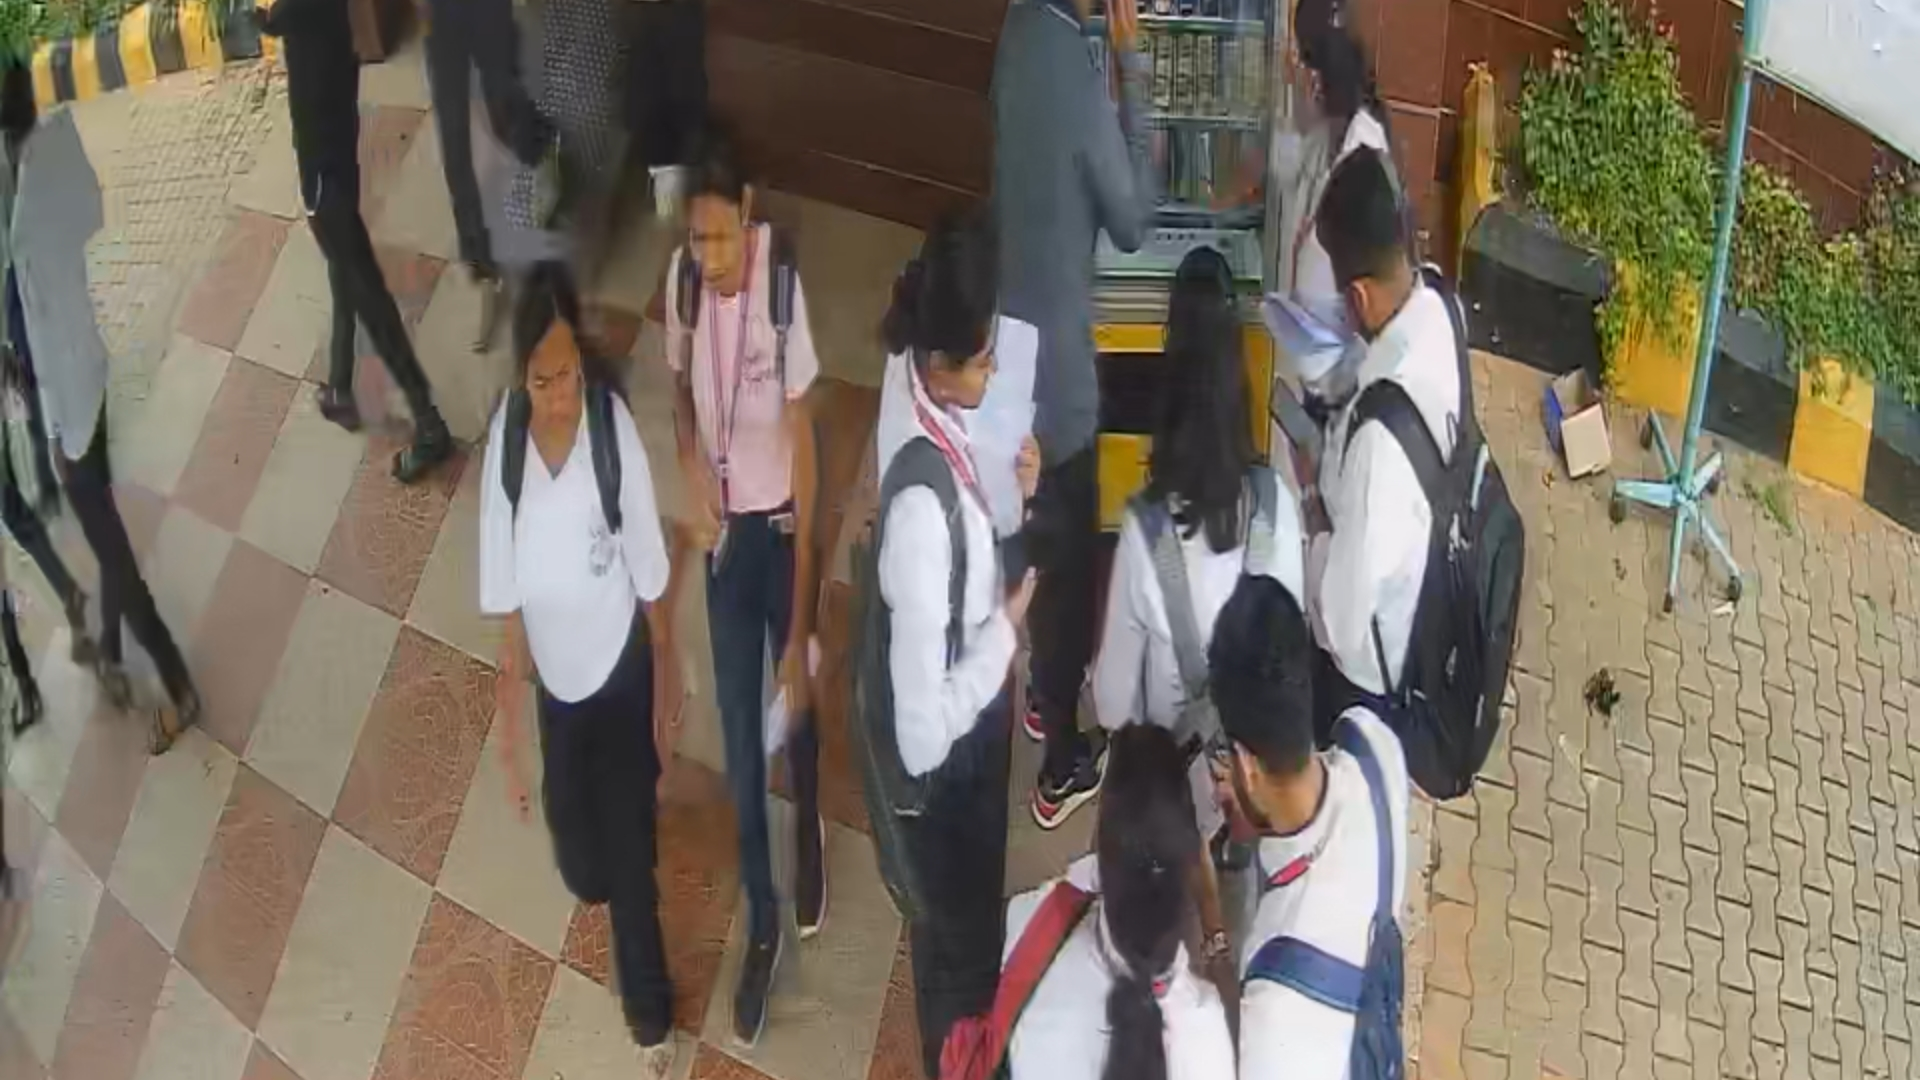intruder: (469, 251, 704, 1055)
not intruder: (669, 127, 835, 1005)
